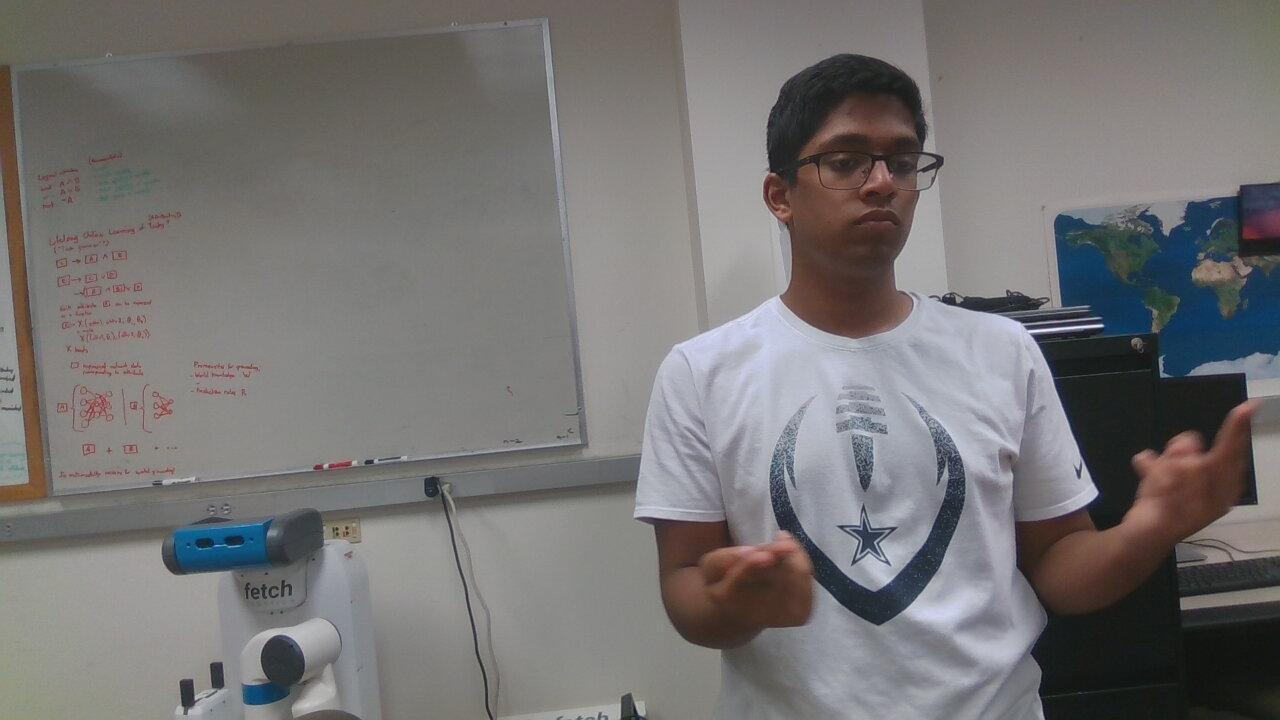hands: (676, 504, 846, 674), (1121, 404, 1279, 579)
